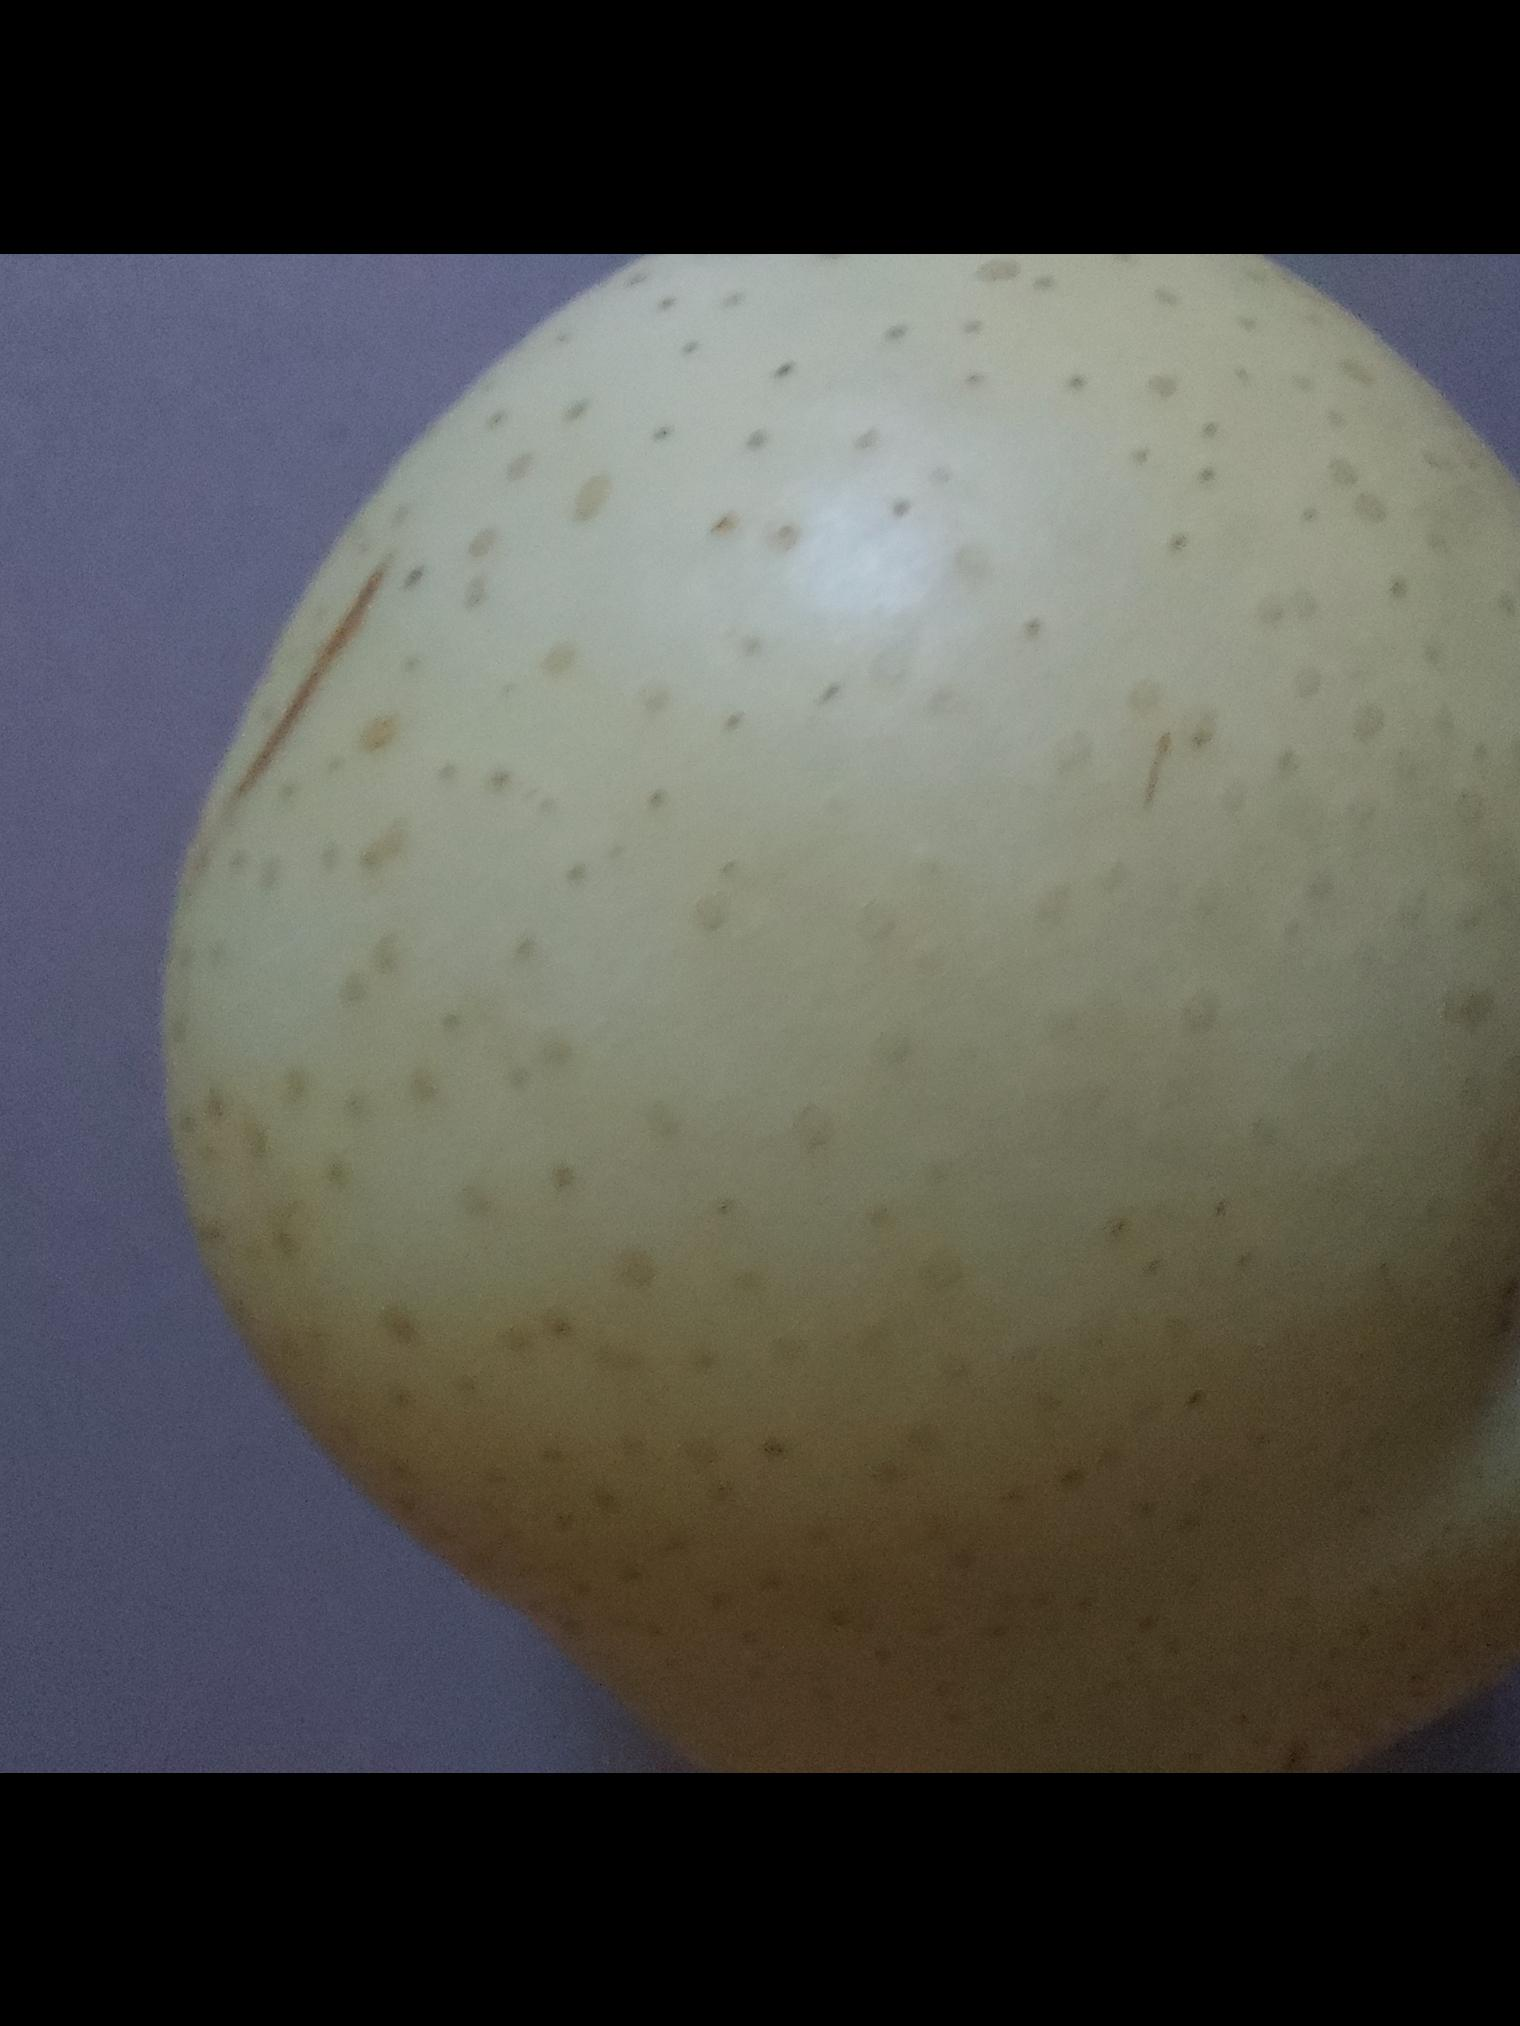Good Pear: (148, 252, 1520, 1774)
